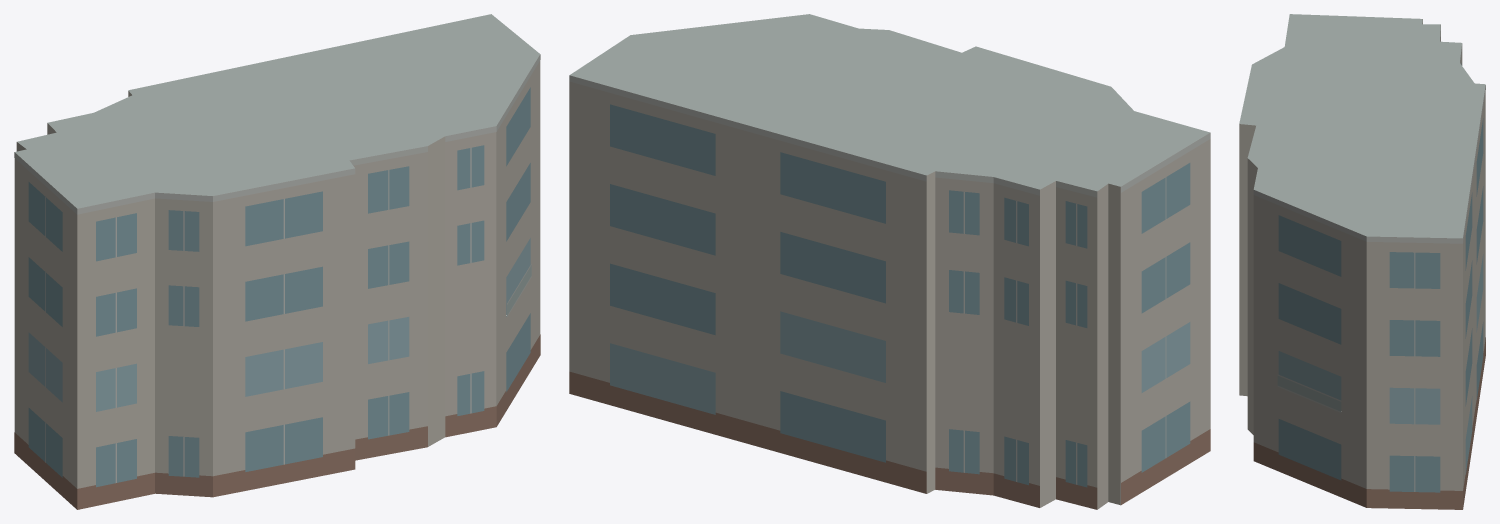
Rendered from survey-upis-32614012.glb.
The picture shows the model from 3 angles, left to right: view 1: azimuth 30°, elevation 25°; view 2: azimuth 150°, elevation 25°; view 3: azimuth 270°, elevation 25°; orthographic projection. The views are drawn at different scales.
Visible parts, largest first — view 1: survey-upis-32614012.tmp; view 2: survey-upis-32614012.tmp; view 3: survey-upis-32614012.tmp.
Boxes of the visible parts, x1,y1,x2,y2 form: survey-upis-32614012.tmp: (14, 14, 540, 509); survey-upis-32614012.tmp: (569, 14, 1210, 509); survey-upis-32614012.tmp: (1239, 14, 1485, 509).
Size of the model in its own units: 22.17 by 12.5 by 10.3.
